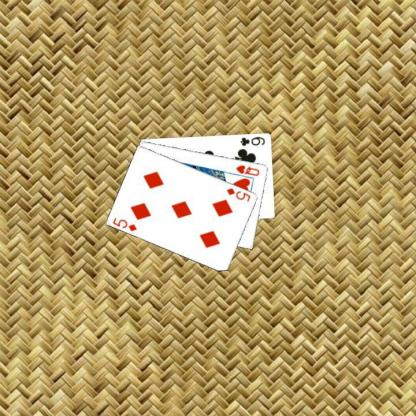5D: (224, 185, 252, 203), (110, 215, 138, 232)
6C: (238, 134, 266, 147)
QH: (233, 162, 260, 177)
